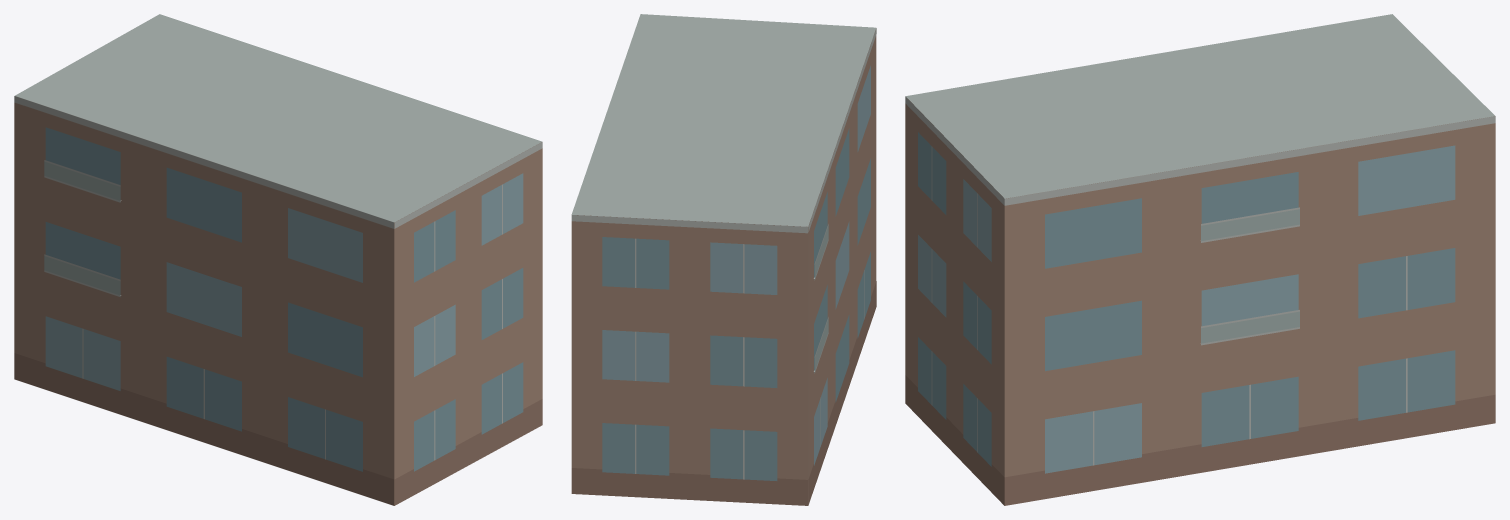
Rendered from survey-upis-32737507.glb.
The picture shows the model from 3 angles, left to right: view 1: azimuth 30°, elevation 25°; view 2: azimuth 150°, elevation 25°; view 3: azimuth 270°, elevation 25°; orthographic projection. The views are drawn at different scales.
Visible parts, largest first — view 1: survey-upis-32737507.tmp; view 2: survey-upis-32737507.tmp; view 3: survey-upis-32737507.tmp.
Part boxes in pixels (box(x1,y1,x2,y2)): survey-upis-32737507.tmp: box(14, 14, 542, 505); survey-upis-32737507.tmp: box(571, 14, 876, 505); survey-upis-32737507.tmp: box(905, 14, 1495, 505).
Size of the model in its own units: 13.55 by 10.5 by 18.29.
